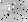person: (8, 4, 15, 15), (3, 5, 10, 14)
